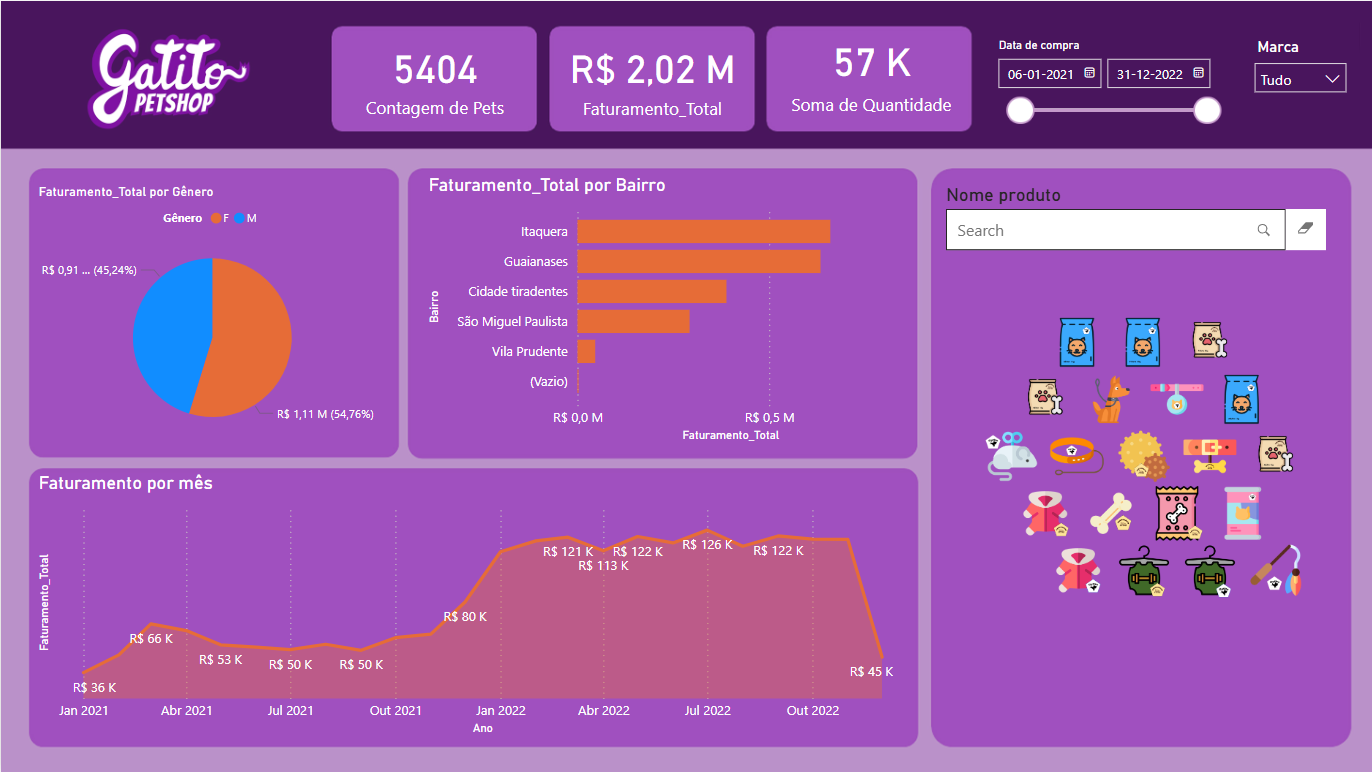

The page's visual inventory and layout, read from the dashboard file:
{"tool":"powerbi","page":{"name":"Página 1","canvas":[1280,720],"ordinal":0},"visuals":[{"type":"card","fields":{"Values":["CountNonNull(Clientes (2).Pets)"]},"box":[322.5,24.6,163.7,93.5],"z":0},{"type":"cardVisual","fields":{"Data":["Sum(Vendas.Quantidade)"]},"box":[716.3,19.7,192,103.4],"z":1000},{"type":"card","fields":{"Values":["Vendas.Faturamento_Total"]},"box":[496.8,29,222.5,85.3],"z":3000},{"type":"pieChart","fields":{"Category":["Clientes (2).Gênero"],"Y":["Vendas.Faturamento_Total"]},"box":[30.7,170,334,246.7],"z":4000},{"type":"clusteredBarChart","fields":{"Category":["Clientes (2).Bairro"],"Y":["Vendas.Faturamento_Total"]},"box":[394.4,161.1,458.9,255.6],"z":5000},{"type":"areaChart","title":"Faturamento por mês","fields":{"Category":["Vendas.Data de compra.Variation.Hierarquia de datas.Ano","Vendas.Data de compra.Variation.Hierarquia de datas.Trimestre","Vendas.Data de compra.Variation.Hierarquia de datas.Mês","Vendas.Data de compra.Variation.Hierarquia de datas.Dia"],"Y":["Vendas.Faturamento_Total"]},"box":[30.8,440,821.7,250],"z":6000},{"type":"ImageGrid_FC5183B9_926C_45E0_B5F7_0CE9EAF1DA9B","fields":{"ImageURL":["Produtos.Url img"]},"box":[868.9,152.6,396.3,544],"z":7000},{"type":"textFilter25A4896A83E0487089E2B90C9AE57C8A","fields":{"field":["Produtos.Nome produto"]},"box":[876.7,170,364.4,72.2],"z":8000},{"type":"slicer","fields":{"Values":["Produtos.Marca"]},"box":[1159.2,29.6,105.6,66.2],"z":8001},{"type":"slicer","fields":{"Values":["Vendas.Data de compra"]},"box":[917.9,29.5,228.2,88.5],"z":8002}]}

Visuals, with their boxes in screenshot pixels (x1, y1, x2, y2), scaled from the page's 1280x720 canvas onto the 1372x772 screenshot:
card - CountNonNull(Clientes (2).Pets): pyautogui.locateOnScreen(346, 26, 521, 127)
cardVisual - Sum(Vendas.Quantidade): pyautogui.locateOnScreen(768, 21, 974, 132)
card - Vendas.Faturamento_Total: pyautogui.locateOnScreen(533, 31, 771, 123)
pieChart - Clientes (2).Gênero x Vendas.Faturamento_Total: pyautogui.locateOnScreen(33, 182, 391, 447)
clusteredBarChart - Clientes (2).Bairro x Vendas.Faturamento_Total: pyautogui.locateOnScreen(423, 173, 915, 447)
"Faturamento por mês" areaChart: pyautogui.locateOnScreen(33, 472, 914, 740)
ImageGrid_FC5183B9_926C_45E0_B5F7_0CE9EAF1DA9B - Produtos.Url img: pyautogui.locateOnScreen(931, 164, 1356, 747)
textFilter25A4896A83E0487089E2B90C9AE57C8A - Produtos.Nome produto: pyautogui.locateOnScreen(940, 182, 1330, 260)
slicer - Produtos.Marca: pyautogui.locateOnScreen(1243, 32, 1356, 103)
slicer - Vendas.Data de compra: pyautogui.locateOnScreen(984, 32, 1228, 127)
